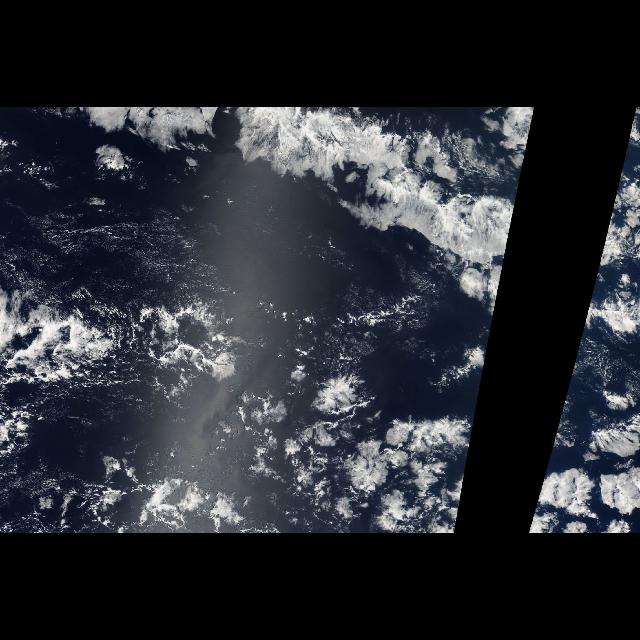Flower: (246, 327, 492, 533), (528, 327, 640, 533)
Gravel: (22, 147, 280, 363)
Sugar: (0, 192, 242, 322)
